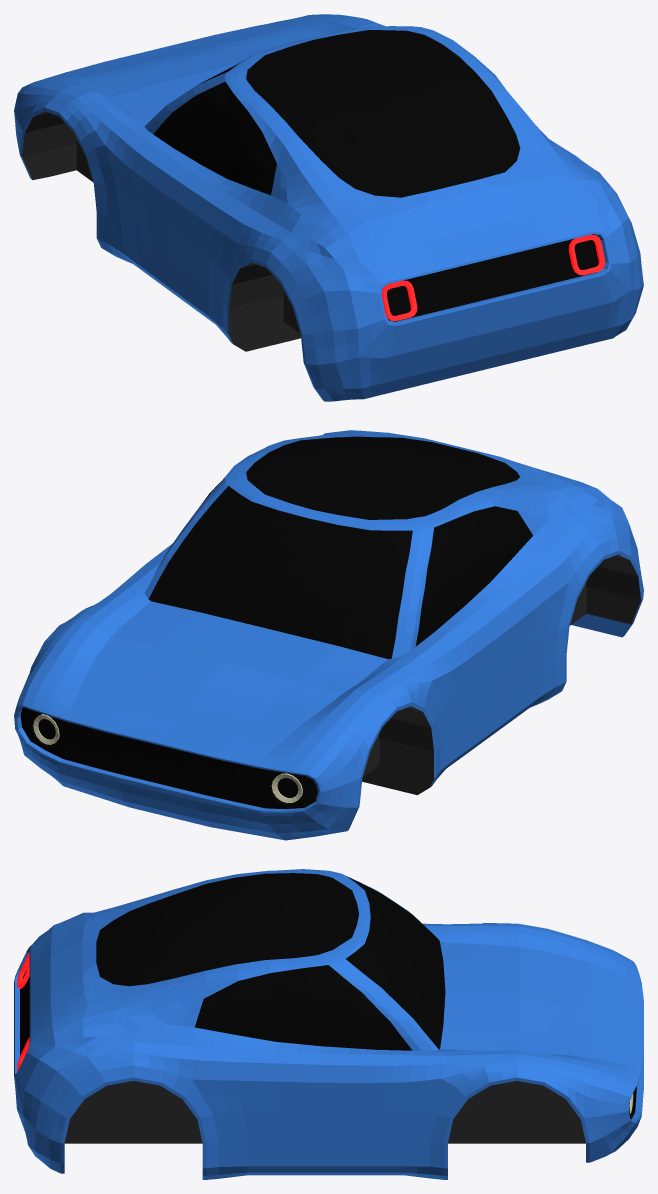
Rendered from car_var3_body.fbx.
The picture shows the model from 3 angles, top to bottom: view 1: azimuth 30°, elevation 25°; view 2: azimuth 150°, elevation 25°; view 3: azimuth 270°, elevation 25°; orthographic projection. The views are drawn at different scales.
Parts seen in each view (by area): view 1: body, back_glass, mid_glass; view 2: body, front_glass, back_glass, mid_glass; view 3: body, back_glass, mid_glass, front_glass.
Part boxes in pixels (x1,y1,x2,y2): body: (14,14,643,401); back_glass: (246,30,520,197); mid_glass: (153,37,441,195); body: (14,430,643,840); front_glass: (148,486,412,659); back_glass: (246,436,519,519); mid_glass: (200,452,532,646); body: (14,869,643,1179); back_glass: (96,873,358,986); mid_glass: (194,873,412,1050); front_glass: (346,876,445,1049).
Size of the model in its own units: 593 by 369 by 1035.
